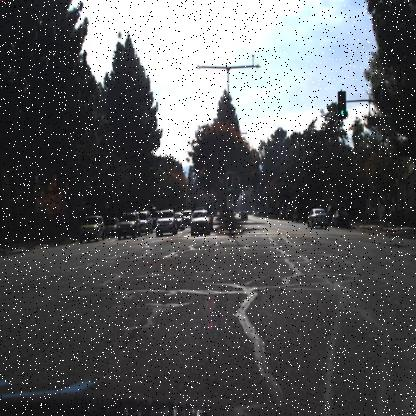car: (77, 212, 106, 244), (153, 207, 180, 236), (116, 211, 142, 240), (305, 204, 330, 232), (190, 209, 212, 236), (140, 210, 154, 236), (106, 214, 118, 240), (176, 210, 186, 234), (240, 206, 249, 221)
trafficLight-Green: (338, 90, 346, 118)
trafficLight-GreenLeft: (224, 170, 235, 196), (227, 176, 232, 193)
